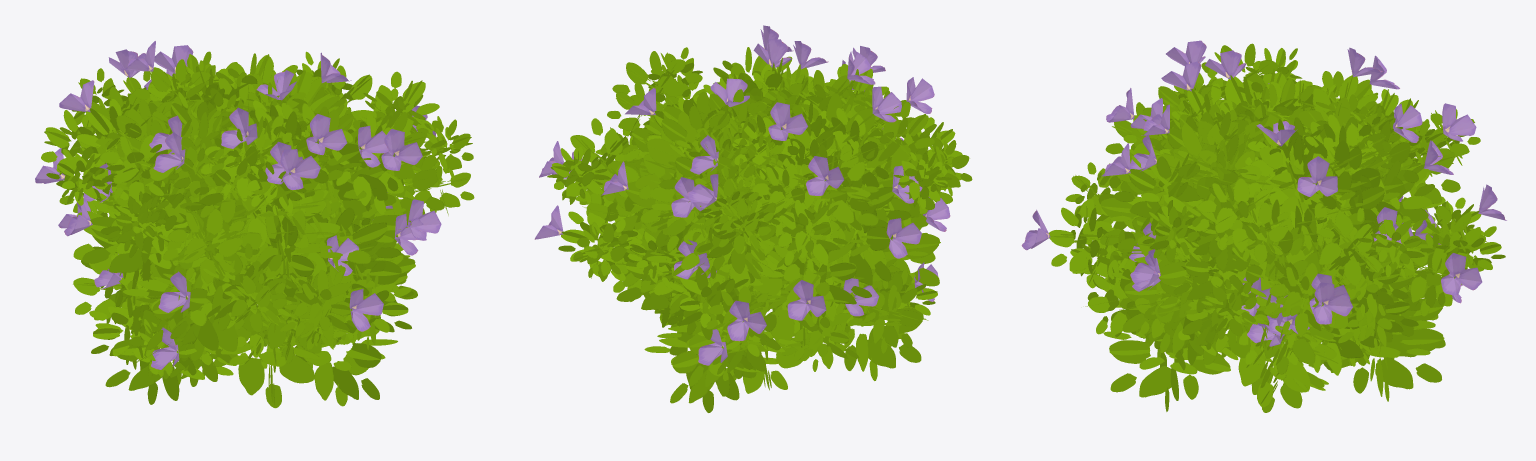
The model's file is Bush_Common_Flowers.glb.
The picture shows the model from 3 angles, left to right: view 1: azimuth 30°, elevation 25°; view 2: azimuth 150°, elevation 25°; view 3: azimuth 270°, elevation 25°; orthographic projection. The views are drawn at different scales.
Bounding box in the file's own units: 1.91 × 1.58 × 1.97.
Materials: 2 (2 with a texture image).
